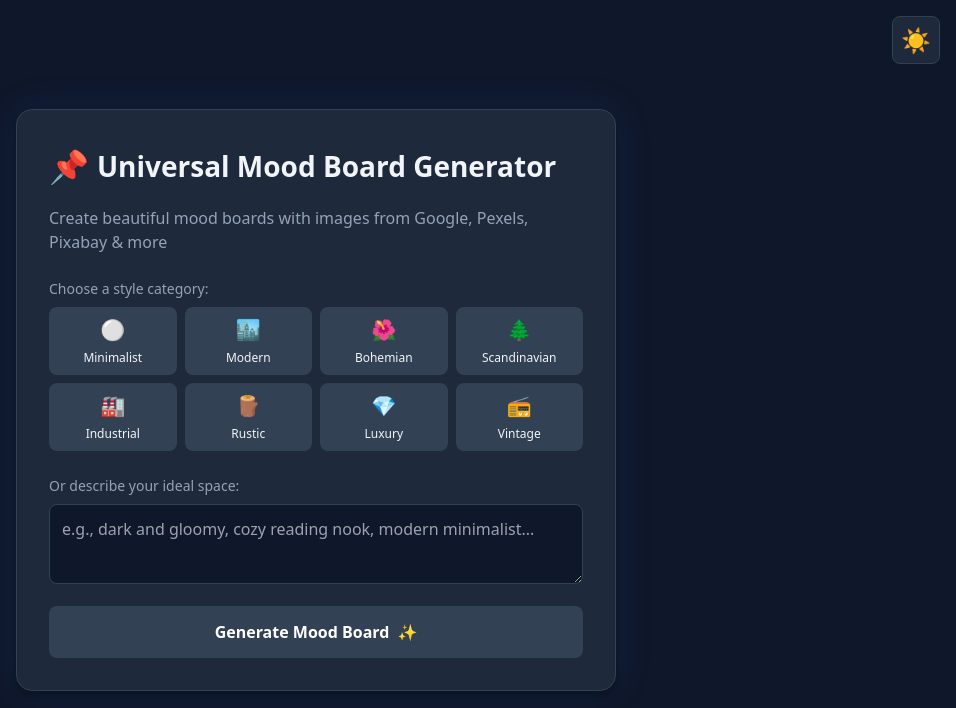
Test case: PinterestMoodBoard › Button States › should enable generate button when text is entered
Step 1. Replace the text in the text box with placeholder "e.g., dark and gloomy" with "test" → (316, 544), box x1=49 y1=504 x2=583 y2=584
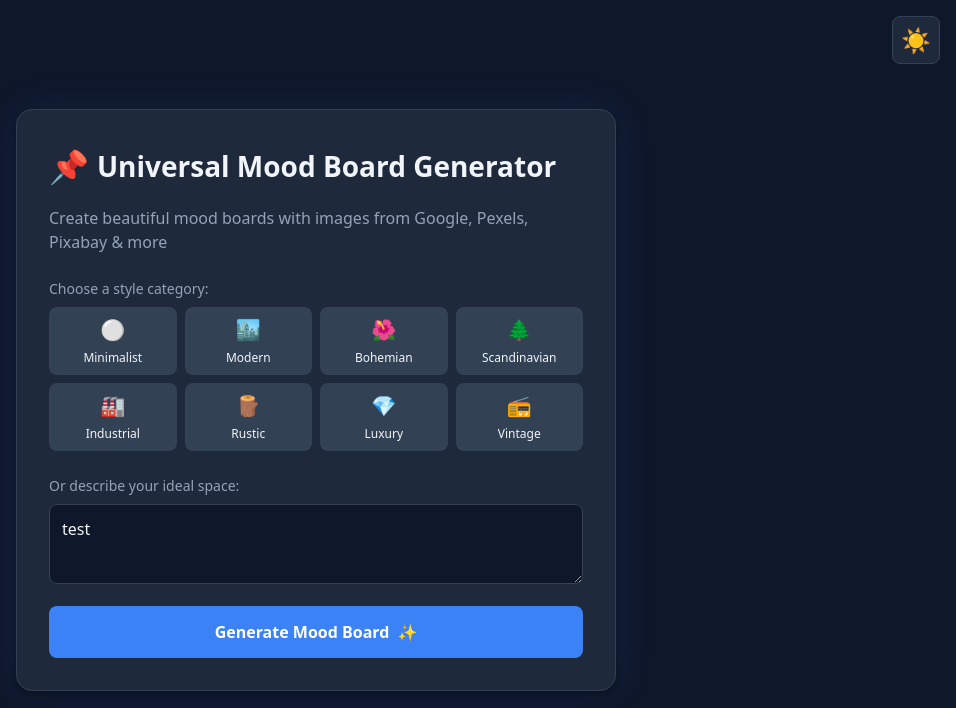
Expected: the button "Generate Mood Board ✨" is enabled, x1=49 y1=606 x2=583 y2=658
